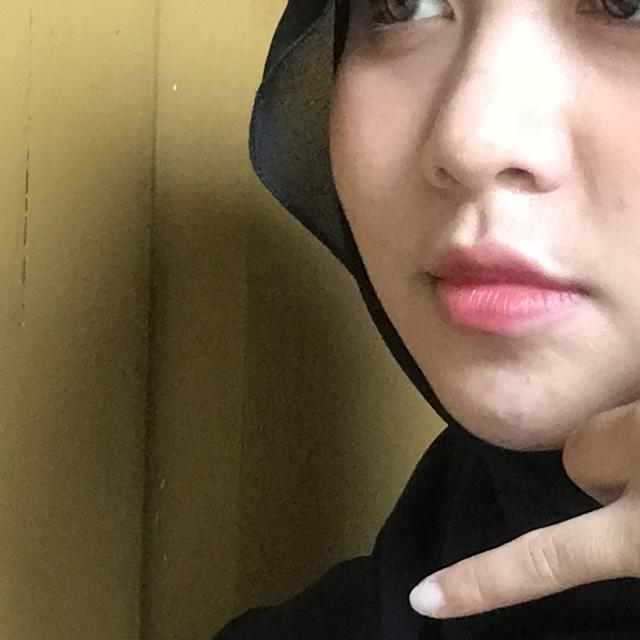telpon: (330, 46, 640, 640)
